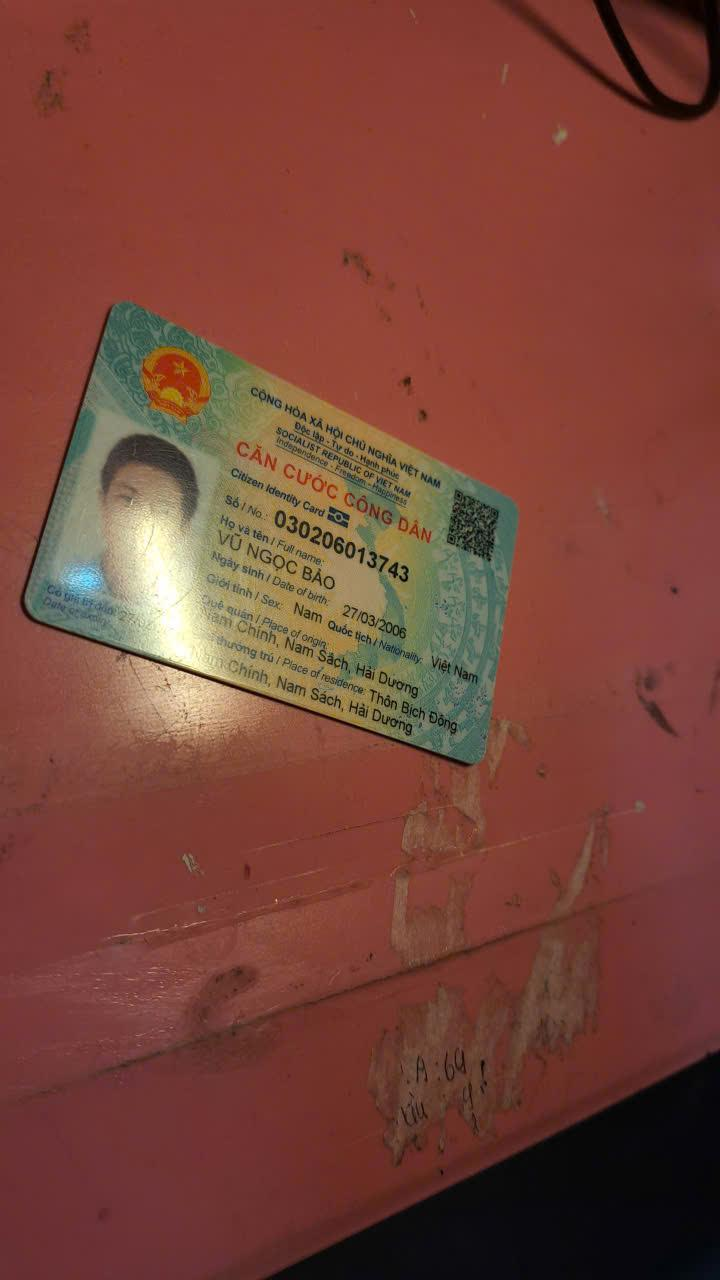cccd: (14, 293, 530, 775)
